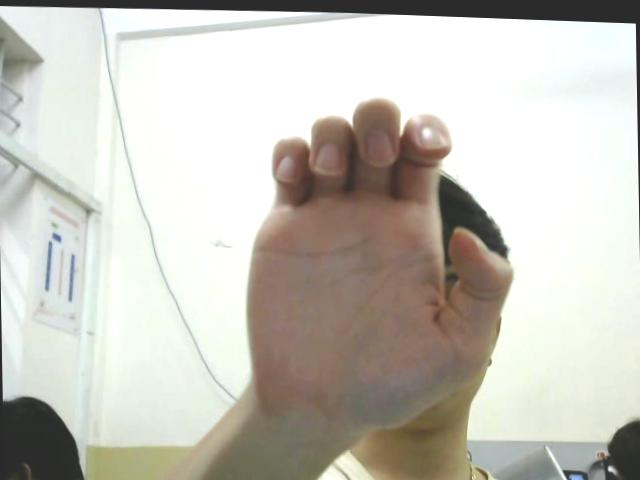E: (239, 84, 513, 422)
